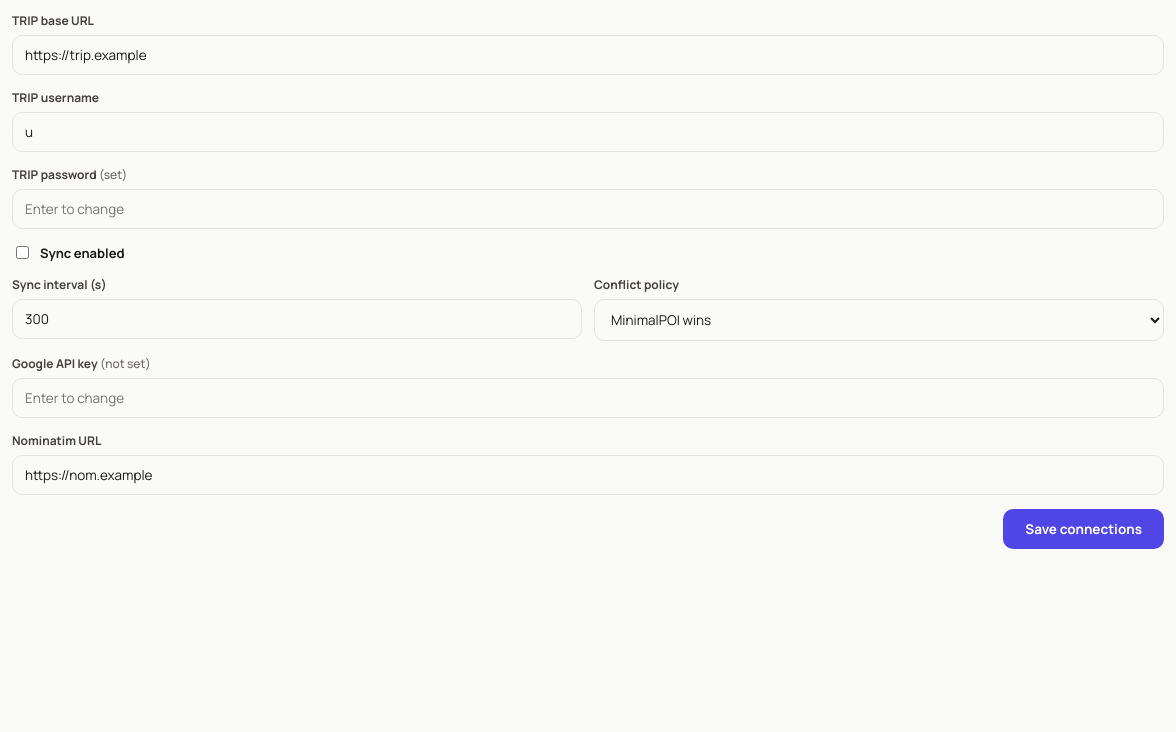
Scenario: ConnectionsSection › shows an error toast when the save fails
Expected: the field showing "https://trip.example" is shown, [12,35,1164,75]
Click the button "Save connections" at (1084, 529), box [1003,509,1164,549]
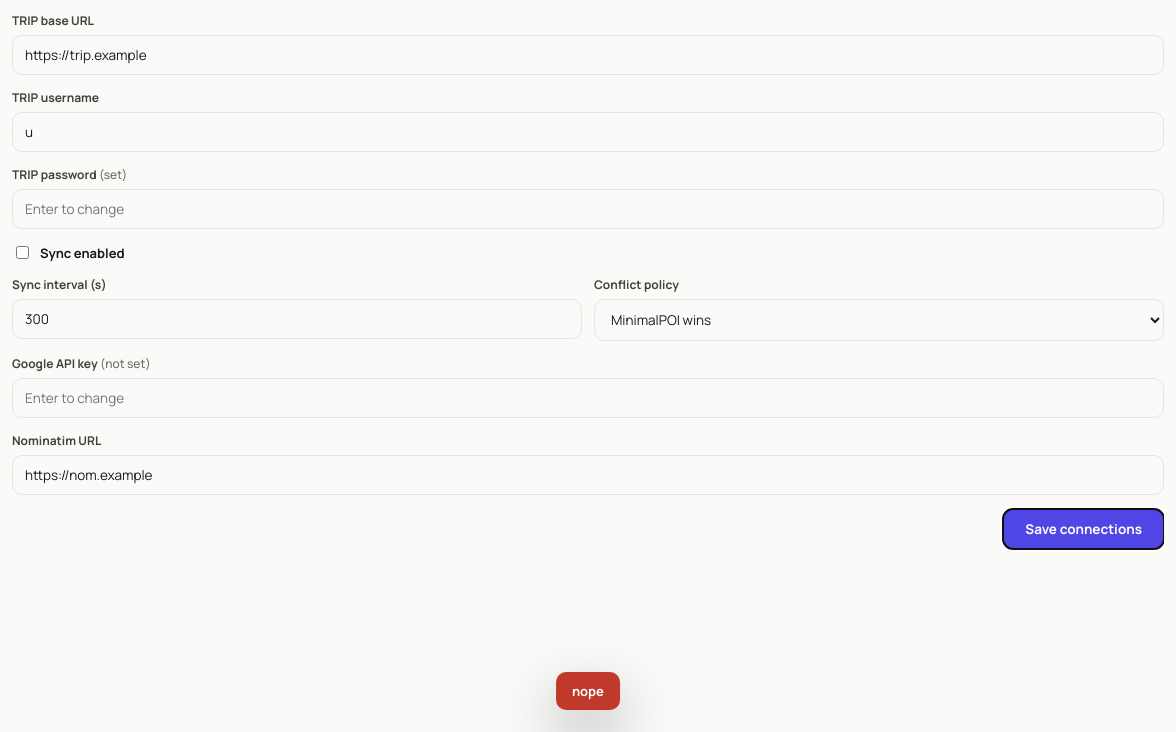
Now the text "nope" is shown, box [556,672,620,710]
